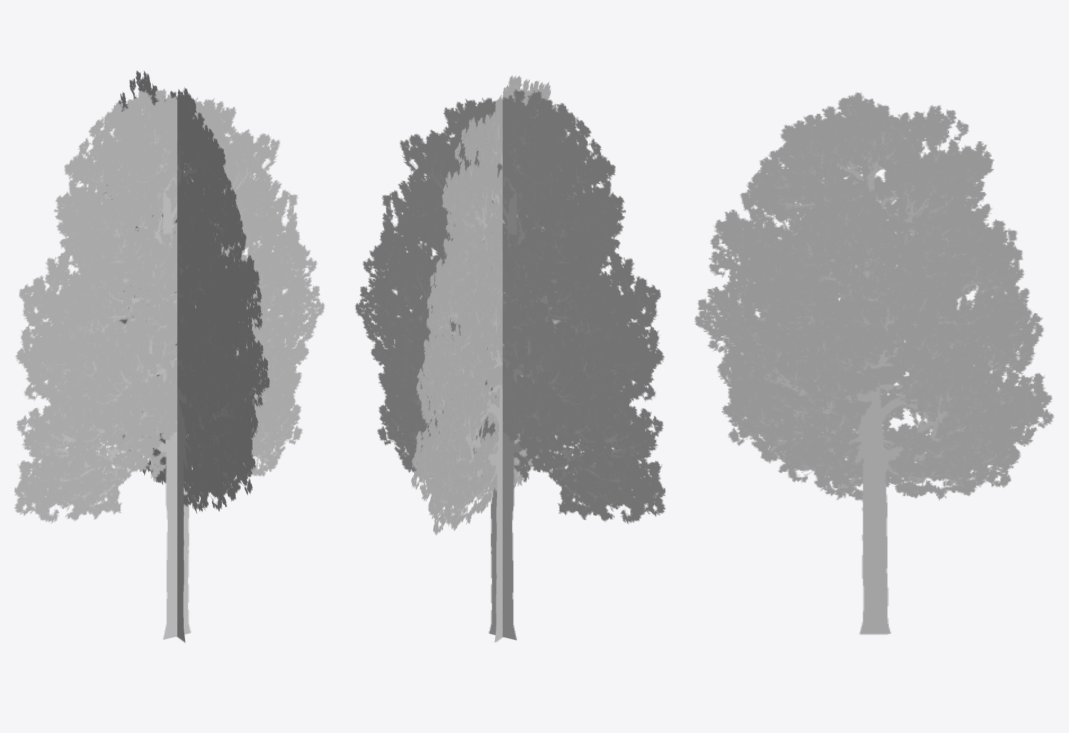
The model's file is Unknown.glb.
The picture shows the model from 3 angles, left to right: view 1: azimuth 30°, elevation 25°; view 2: azimuth 150°, elevation 25°; view 3: azimuth 270°, elevation 25°; orthographic projection. The views are drawn at different scales.
Parts seen in each view (by area): view 1: mesh__mat_billboard_2; view 2: mesh__mat_billboard_2; view 3: mesh__mat_billboard_2.
Boxes of the visible parts, box(x1,y1,x2,y2) form: mesh__mat_billboard_2: box(14, 70, 324, 642); mesh__mat_billboard_2: box(355, 75, 665, 642); mesh__mat_billboard_2: box(694, 92, 1053, 634).
Bounding box in the file's own units: 11.01 × 19.22 × 11.29.
1 material, 1 textured.
